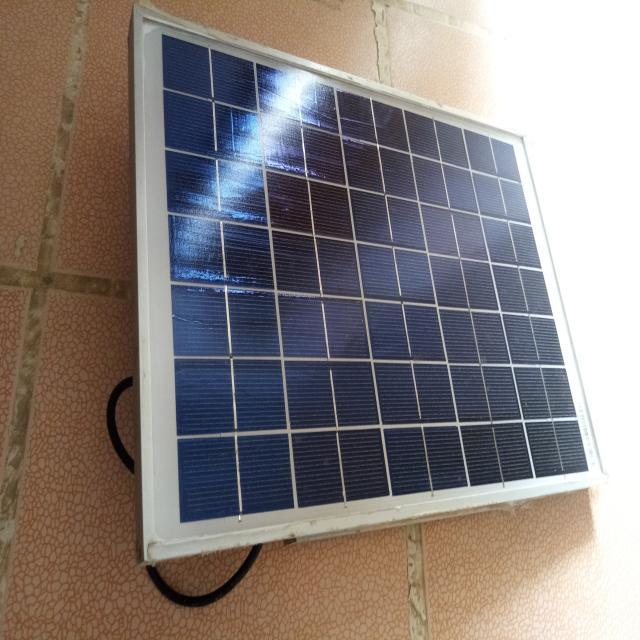no faulty: (142, 12, 606, 546)
